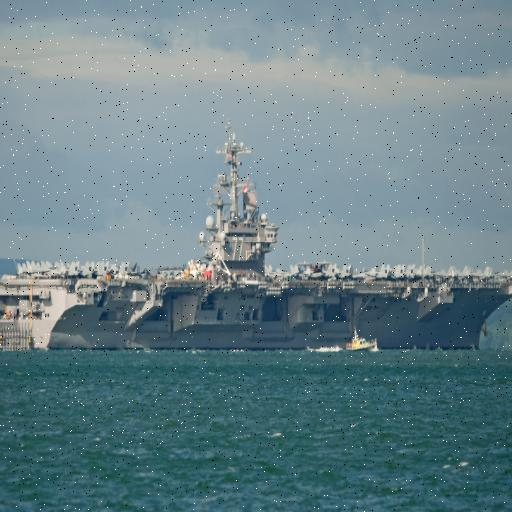Portanaves: (1, 114, 512, 356)
